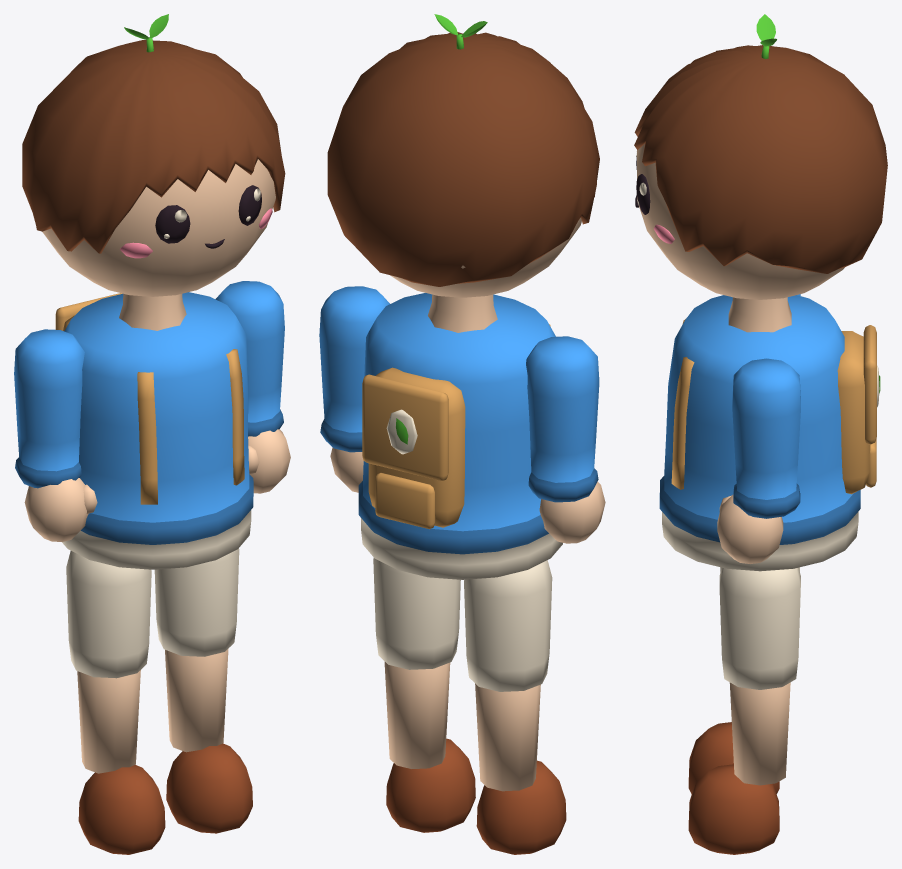
File: hero-tall.glb
3 views of the same model, side by side, from view 1: azimuth 30°, elevation 25°; view 2: azimuth 150°, elevation 25°; view 3: azimuth 270°, elevation 25° (orthographic). The views are drawn at different scales.
Visible parts, largest first — view 1: head, body, leg-left, leg-right, arm-left, arm-right; view 2: head, body, leg-left, leg-right, arm-left, arm-right, head-leaf; view 3: head, body, leg-right, arm-right, leg-left, head-leaf.
Boxes of the visible parts, x1=… form: head: x1=22, y1=40, x2=285, y2=330; body: x1=55, y1=292, x2=253, y2=569; leg-left: x1=66, y1=551, x2=165, y2=854; leg-right: x1=154, y1=548, x2=252, y2=833; arm-left: x1=14, y1=329, x2=97, y2=541; arm-right: x1=215, y1=281, x2=290, y2=493; head: x1=327, y1=32, x2=599, y2=332; body: x1=358, y1=293, x2=562, y2=579; leg-left: x1=464, y1=560, x2=566, y2=854; leg-right: x1=373, y1=557, x2=475, y2=832; arm-left: x1=526, y1=336, x2=605, y2=543; arm-right: x1=319, y1=286, x2=389, y2=492; head-leaf: x1=434, y1=14, x2=487, y2=49; head: x1=634, y1=45, x2=887, y2=332; body: x1=659, y1=295, x2=880, y2=571; leg-right: x1=688, y1=567, x2=800, y2=854; arm-right: x1=717, y1=358, x2=800, y2=563; leg-left: x1=688, y1=567, x2=799, y2=794; head-leaf: x1=756, y1=14, x2=776, y2=58.
Size of the model in its own units: 0.9254 by 2.71 by 0.782.
